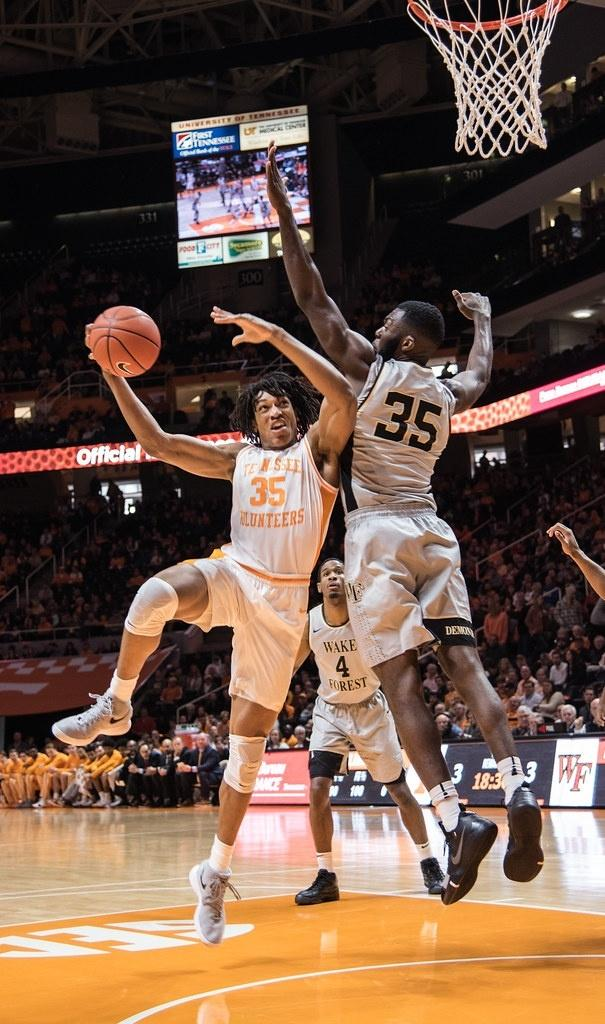basketball-player: (262, 138, 545, 898), (44, 316, 353, 957), (276, 510, 455, 929)
